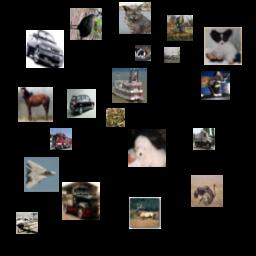airplane: (24, 157, 59, 192), (16, 212, 38, 234), (164, 47, 180, 63)
automobile: (26, 30, 64, 68), (67, 89, 96, 118)
bird: (191, 175, 223, 207), (70, 8, 102, 40)
cat: (119, 2, 151, 34), (201, 71, 230, 100)
deer: (129, 197, 161, 229)
dog: (128, 129, 166, 167), (204, 27, 242, 65), (135, 45, 151, 61)
frog: (106, 108, 125, 127)
ship: (112, 68, 147, 103)
truck: (62, 182, 100, 220), (193, 128, 215, 150), (50, 128, 72, 150)
